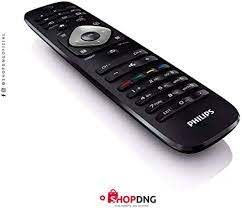remote control: (22, 0, 241, 156)
